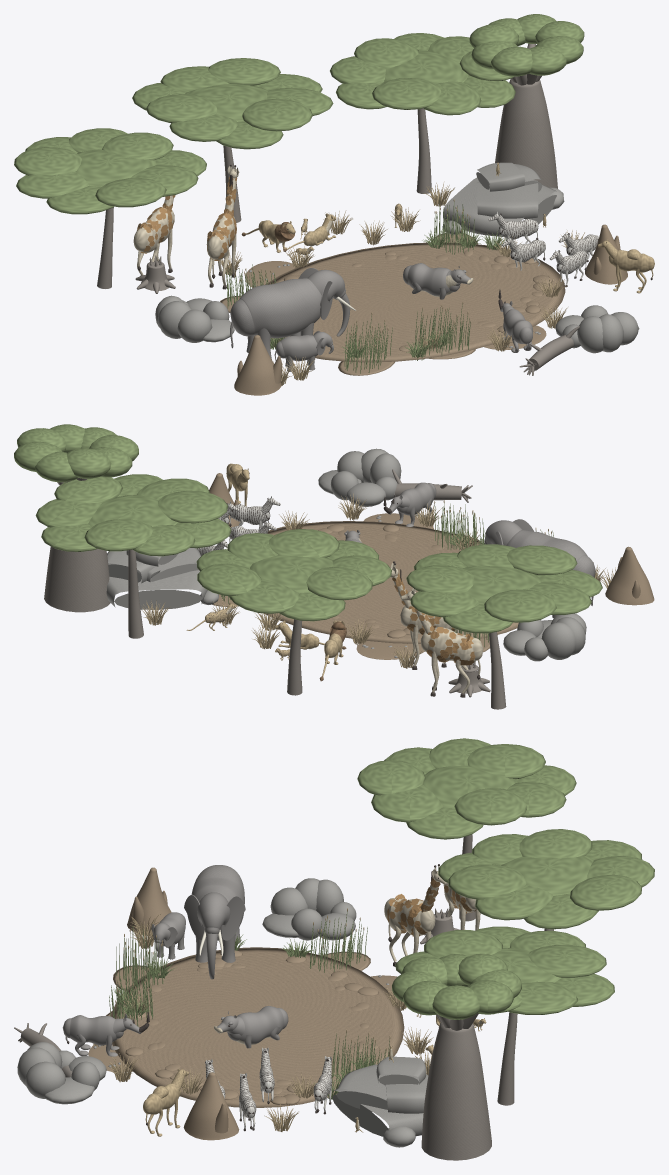
File: exotic-wildlife-hd-savanna-waterhole-f5860bf0-starter-scene__30236.glb
The picture shows the model from 3 angles, top to bottom: view 1: azimuth 30°, elevation 25°; view 2: azimuth 150°, elevation 25°; view 3: azimuth 270°, elevation 25°; orthographic projection. The views are drawn at different scales.
Visible parts, largest first — view 1: 028-umbrella-acacia/1, 026-umbrella-acacia/1, 027-umbrella-acacia/1, 000-waterhole/0, 000-waterhole/1, 001-african-elephant-bull/0, 029-baobab-tree/1, 029-baobab-tree/0, 017-rock-outcrop/1, 017-rock-outcrop/0, 022-termite-mound/0, 021-boulder-cluster/1 (+26 smaller); view 2: 026-umbrella-acacia/1, 027-umbrella-acacia/1, 028-umbrella-acacia/1, 029-baobab-tree/1, 000-waterhole/0, 029-baobab-tree/0, 017-rock-outcrop/0, 000-waterhole/1, 001-african-elephant-bull/0, 021-boulder-cluster/0, 022-termite-mound/0, 021-boulder-cluster/1 (+21 smaller); view 3: 000-waterhole/0, 026-umbrella-acacia/1, 028-umbrella-acacia/1, 000-waterhole/1, 027-umbrella-acacia/1, 029-baobab-tree/0, 029-baobab-tree/1, 001-african-elephant-bull/0, 017-rock-outcrop/0, 017-rock-outcrop/1, 020-boulder-cluster/1, 023-termite-mound/0 (+18 smaller).
Boxes of the visible parts, left/top/right/bottom form: 028-umbrella-acacia/1: left=132, top=58, right=333, bottom=149; 026-umbrella-acacia/1: left=14, top=128, right=206, bottom=214; 027-umbrella-acacia/1: left=330, top=33, right=515, bottom=115; 000-waterhole/0: left=265, top=242, right=565, bottom=362; 000-waterhole/1: left=314, top=249, right=543, bottom=353; 001-african-elephant-bull/0: left=230, top=268, right=350, bottom=359; 029-baobab-tree/1: left=469, top=14, right=584, bottom=76; 029-baobab-tree/0: left=495, top=43, right=557, bottom=188; 017-rock-outcrop/1: left=442, top=162, right=538, bottom=234; 017-rock-outcrop/0: left=443, top=164, right=564, bottom=238; 022-termite-mound/0: left=234, top=335, right=281, bottom=395; 021-boulder-cluster/1: left=577, top=305, right=638, bottom=353; 026-umbrella-acacia/1: left=406, top=544, right=602, bottom=633; 027-umbrella-acacia/1: left=35, top=474, right=231, bottom=556; 028-umbrella-acacia/1: left=196, top=529, right=391, bottom=621; 029-baobab-tree/1: left=14, top=424, right=138, bottom=482; 000-waterhole/0: left=264, top=521, right=518, bottom=643; 029-baobab-tree/0: left=44, top=478, right=110, bottom=612; 017-rock-outcrop/0: left=106, top=550, right=207, bottom=609; 000-waterhole/1: left=318, top=528, right=464, bottom=628; 001-african-elephant-bull/0: left=484, top=519, right=595, bottom=618; 021-boulder-cluster/0: left=318, top=448, right=397, bottom=506; 022-termite-mound/0: left=605, top=546, right=654, bottom=605; 021-boulder-cluster/1: left=330, top=451, right=401, bottom=500; 000-waterhole/0: left=111, top=947, right=404, bottom=1107; 026-umbrella-acacia/1: left=357, top=738, right=576, bottom=839; 028-umbrella-acacia/1: left=438, top=829, right=654, bottom=929; 000-waterhole/1: left=141, top=962, right=378, bottom=1094; 027-umbrella-acacia/1: left=395, top=926, right=614, bottom=1014; 029-baobab-tree/0: left=421, top=1013, right=491, bottom=1160; 029-baobab-tree/1: left=392, top=953, right=521, bottom=1019; 001-african-elephant-bull/0: left=184, top=865, right=245, bottom=979; 017-rock-outcrop/0: left=332, top=1074, right=428, bottom=1147; 017-rock-outcrop/1: left=336, top=1056, right=426, bottom=1111; 020-boulder-cluster/1: left=270, top=879, right=343, bottom=940; 023-termite-mound/0: left=183, top=1072, right=239, bottom=1140.
Size of the model in its own units: 28.89 by 7.76 by 25.59.
15 materials, 12 textured.
